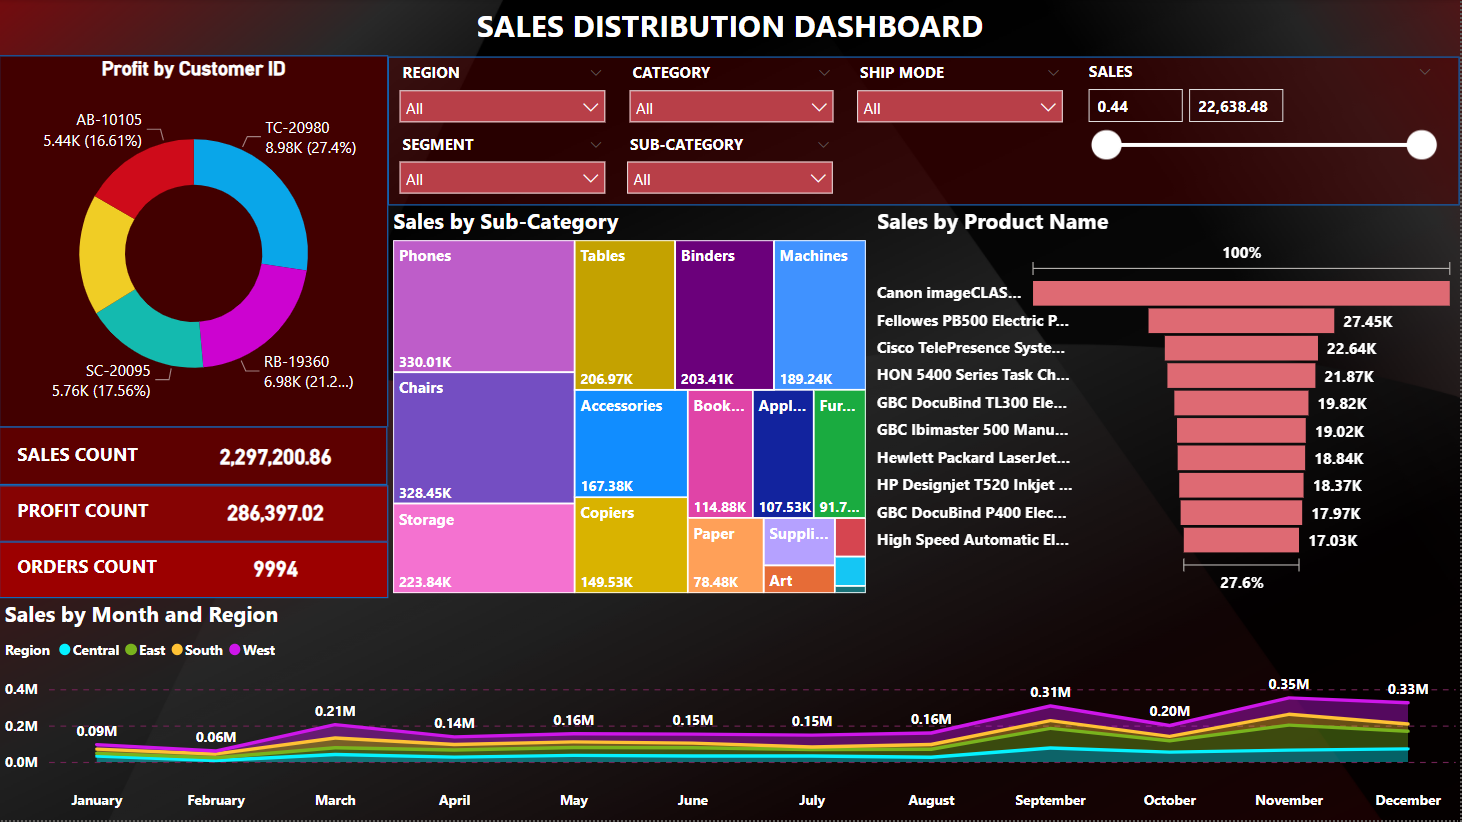

This screenshot's page, from the dashboard's own definition file:
{"tool":"powerbi","page":{"name":"Page 1","canvas":[1280,720],"ordinal":0},"visuals":[{"type":"textbox","box":[0,0,1279.9,49.8],"z":0},{"type":"shape","box":[0,49.4,340.6,325.5],"z":1000},{"type":"donutChart","fields":{"Y":["Sum(Orders.Profit)"],"Category":["Orders.Customer ID"]},"box":[0,50.8,340.6,325.5],"z":2000},{"type":"shape","box":[340.6,50.8,939.4,130.5],"z":3000},{"type":"slicer","fields":{"Values":["Orders.Region"]},"box":[340.6,50.8,200.5,68.7],"z":4000},{"type":"slicer","fields":{"Values":["Orders.Segment"]},"box":[340.6,112.6,200.5,68.7],"z":5000},{"type":"slicer","fields":{"Values":["Orders.Category"]},"box":[541.1,50.8,199.1,68.7],"z":6000},{"type":"slicer","fields":{"Values":["Orders.Sub-Category"]},"box":[539.7,112.6,200.5,68.7],"z":7000},{"type":"slicer","fields":{"Values":["Orders.Ship Mode"]},"box":[740.3,50.8,200.5,68.7],"z":8000},{"type":"slicer","fields":{"Values":["Orders.Sales"]},"box":[941,49.2,325,161.9],"z":9000},{"type":"treemap","fields":{"Values":["Sum(Orders.Sales)"],"Details":["Orders.Sub-Category"]},"box":[340.6,181.3,423,343.3],"z":10000},{"type":"shape","box":[0,374.2,340.3,51.4],"z":11000},{"type":"shape","box":[0,425.8,340.6,49.4],"z":12000},{"type":"shape","box":[0,475.2,340.6,49.4],"z":13000},{"type":"textbox","box":[11,381.8,145.6,37.1],"z":14000},{"type":"textbox","box":[11,431.2,145.6,37.1],"z":15000},{"type":"textbox","box":[11,480.7,145.6,37.1],"z":16000},{"type":"card","fields":{"Values":["Sum(Orders.Sales)"]},"box":[156.6,387.3,171.7,27.5],"z":17000},{"type":"card","fields":{"Values":["Sum(Orders.Profit)"]},"box":[156.6,436.7,171.7,27.5],"z":18000},{"type":"card","fields":{"Values":["CountNonNull(Orders.Order ID)"]},"box":[156.6,486.2,171.7,27.5],"z":19000},{"type":"funnel","fields":{"Y":["Sum(Orders.Sales)"],"Category":["Orders.Product Name"]},"box":[763.6,181.3,516.4,343.3],"z":20000},{"type":"stackedAreaChart","fields":{"Y":["Sum(Orders.Sales)"],"Series":["Orders.Region"],"Category":["Orders.Order Date.Variation.Date Hierarchy.Year","Orders.Order Date.Variation.Date Hierarchy.Quarter","Orders.Order Date.Variation.Date Hierarchy.Month","Orders.Order Date.Variation.Date Hierarchy.Day"]},"box":[0,525.2,1280.2,194.8],"z":20001}]}

Visuals, with their boxes in screenshot pixels (x1, y1, x2, y2), scaled from the page's 1280x720 canvas onto the 1462x822 screenshot:
textbox: BBox(0, 0, 1461, 57)
shape: BBox(0, 56, 389, 428)
donutChart - Sum(Orders.Profit) x Orders.Customer ID: BBox(0, 58, 389, 430)
shape: BBox(389, 58, 1461, 207)
slicer - Orders.Region: BBox(389, 58, 618, 136)
slicer - Orders.Segment: BBox(389, 129, 618, 207)
slicer - Orders.Category: BBox(618, 58, 845, 136)
slicer - Orders.Sub-Category: BBox(616, 129, 845, 207)
slicer - Orders.Ship Mode: BBox(846, 58, 1075, 136)
slicer - Orders.Sales: BBox(1075, 56, 1446, 241)
treemap - Sum(Orders.Sales) x Orders.Sub-Category: BBox(389, 207, 872, 599)
shape: BBox(0, 427, 389, 486)
shape: BBox(0, 486, 389, 543)
shape: BBox(0, 543, 389, 599)
textbox: BBox(13, 436, 179, 478)
textbox: BBox(13, 492, 179, 535)
textbox: BBox(13, 549, 179, 591)
card - Sum(Orders.Sales): BBox(179, 442, 375, 474)
card - Sum(Orders.Profit): BBox(179, 499, 375, 530)
card - CountNonNull(Orders.Order ID): BBox(179, 555, 375, 586)
funnel - Sum(Orders.Sales) x Orders.Product Name: BBox(872, 207, 1461, 599)
stackedAreaChart - Sum(Orders.Sales) x Orders.Region: BBox(0, 600, 1461, 821)
